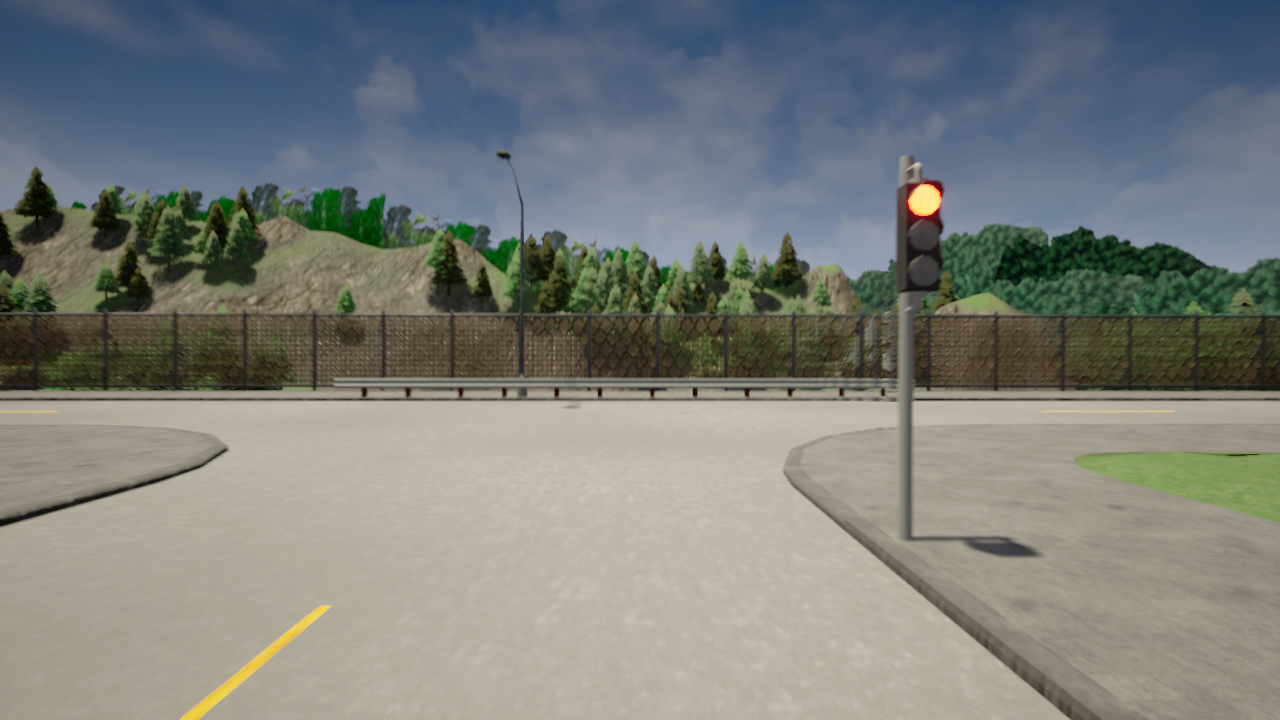red: (894, 181, 943, 295)
